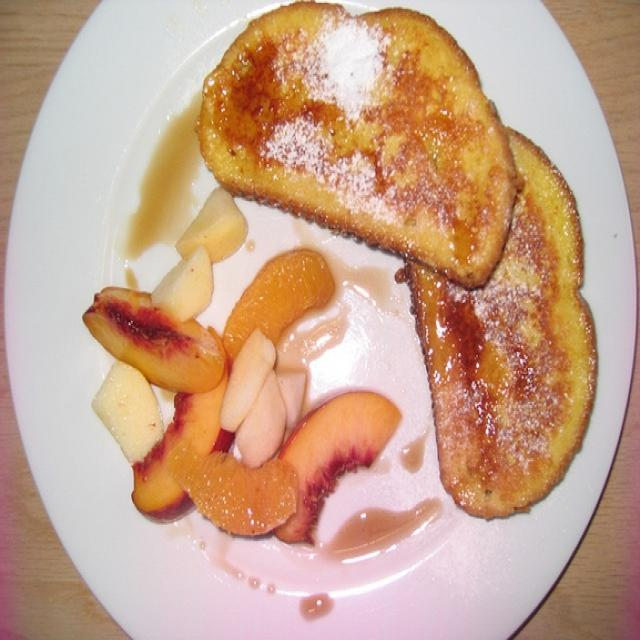面包点心: (198, 13, 606, 531)
